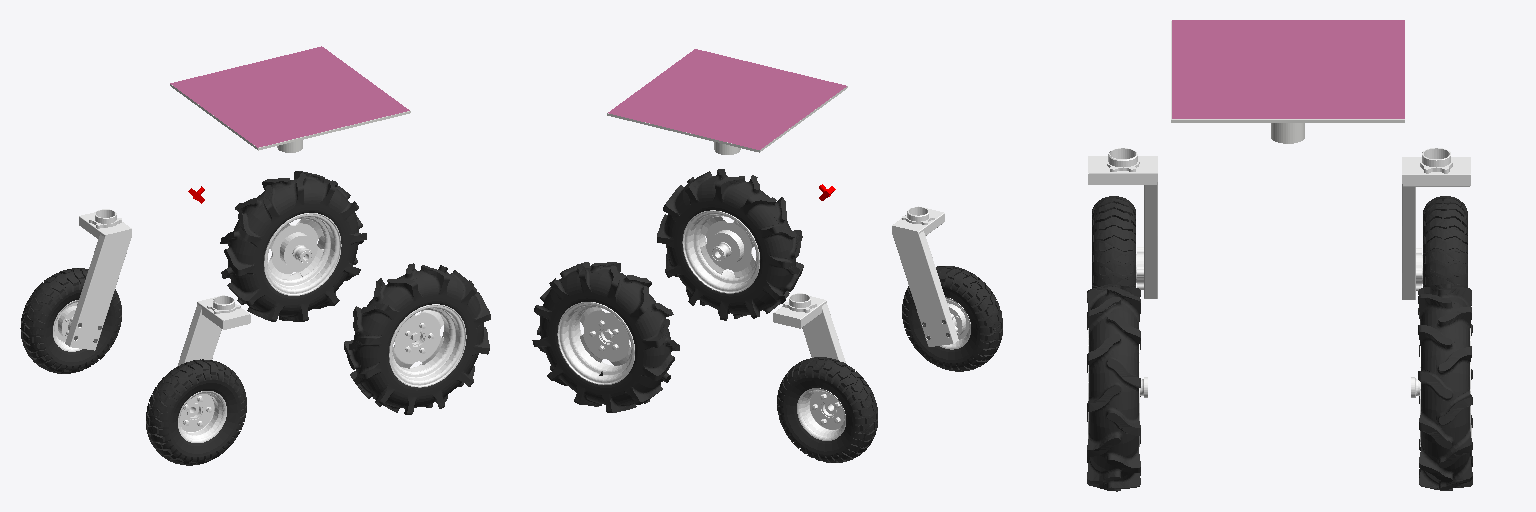
robot.urdf — sb2:
<?xml version="1.0"?>
<robot name="sb2">

#### LINKS #####################################################

<link name="base_link">
	<visual>
		<origin rpy="0 0 0" xyz="0 0 0"/>
		<geometry>
			<mesh filename = 
			"package://sb2_urdf/models/gantry_soy.dae" />
		</geometry>
	</visual>
	<collision>
		<origin rpy="0 0 0" xyz="0 0 0"/>
		<geometry>
			<mesh filename = 
			"package://sb2_urdf/models/collision_gantry_soy.dae" />
		</geometry>
	</collision>
	<inertial>
		<origin rpy="0 0 0" xyz="-0.33 0 0.9"/>
		<mass value="57.53"/>
		<inertia 
		ixx = "06.67" ixy = "-00.10" ixz = "0.03" 
		iyy = "04.86" iyz = "0.00" 
		izz = "11.26"/>
	</inertial>
</link>

<link name="drivetrain_L">
	<visual>
		<origin rpy="0 0 0" xyz="0 0 0"/>
		<geometry>
			<mesh filename = 
			"package://sb2_urdf/models/drivetrain_L.dae" />
		</geometry>
	</visual>
	<collision>
		<origin rpy="0 0 0" xyz="0 0 0"/>
		<geometry>
			<mesh filename = 
			"package://sb2_urdf/models/collision_drivetrain.dae" />
		</geometry>
	</collision>
	<inertial>
		<origin rpy="0 0 0" xyz="-0.21 -0.00 0.66"/>
		<mass value="57.53"/>
		<inertia 
		ixx = "01.71" ixy = "0.04" ixz = "-0.93" 
		iyy = "07.20" iyz = "-0.00" 
		izz = "06.01"/>
	</inertial>
</link>  

<link name="drivetrain_R">
	<visual>
		<origin rpy="0 0 0" xyz="0 0 0"/>
		<geometry>
			<mesh filename = 
			"package://sb2_urdf/models/drivetrain_R.dae" />
		</geometry>
	</visual>
	<collision>
		<origin rpy="0 0 0" xyz="0 0 0"/>
		<geometry>
			<mesh filename = 
			"package://sb2_urdf/models/collision_drivetrain.dae" />
		</geometry>
	</collision>
	<inertial>
		<origin rpy="0 0 0" xyz="-0.21 0 0.66"/>
		<mass value="55.71"/>
		<inertia 
		ixx = "01.71" ixy = "0.04" ixz = "-0.93" 
		iyy = "0.20" iyz = "-0.00" 
		izz = "06.01"/>
	</inertial>
</link>  

<link name="wheel_12_L">
	<visual>
		<origin rpy="0 0 0" xyz="0 0 0"/>
		<geometry>
			<mesh filename = 
			"package://sb2_urdf/models/wheel_12.dae" />
		</geometry>
	</visual>
	<collision>
		<origin rpy="0 0 0" xyz="0 0 0"/>
		<geometry>
			<mesh filename =
			"package://sb2_urdf/models/collision_wheel_12.dae"/>
		</geometry>
	</collision>
	<inertial>
		<origin rpy="0 0 0" xyz="0.00 0.01 0.00"/>
		<mass value=" 18.54"/>
		<inertia
		ixx = "0.28" ixy = "-0.00" ixz = "0.00"
		iyy = "0.49" iyz = "-0.00" 
		izz = "0.28"/>
	</inertial>
</link>

<link name="wheel_12_R">
	<visual>
		<origin rpy="0 0 0" xyz="0 0 0"/>
		<geometry>
			<mesh filename = 
			"package://sb2_urdf/models/wheel_12.dae" />
		</geometry>
	</visual>
	<collision>
		<origin rpy="0 0 0" xyz="0 0 0"/>
		<geometry>
			<mesh filename =
			"package://sb2_urdf/models/collision_wheel_12.dae"/>
		</geometry>
	</collision>
	<inertial>
		<origin rpy="0 0 0" xyz="0.00 0.01 0.00"/>
		<mass value=" 18.54"/>
		<inertia 
		ixx = "0.28" ixy = "-0.00" ixz = "0.00" 
		iyy = "0.49" iyz = "-0.00" 
		izz = "0.28"/>
	</inertial>
</link>

<link name="castor_L">
	<visual>
		<origin rpy="0 0 0" xyz="0 0 0"/>
		<geometry>
			<mesh filename = 
			"package://sb2_urdf/models/castor_L.dae" />
		</geometry>
	</visual>
	<collision>
		<origin rpy="0 0 0" xyz="0 0 0"/>
		<geometry>
			<mesh filename = 
			"package://sb2_urdf/models/collision_castor.dae" />
		</geometry>
	</collision>
	<inertial>
		<origin rpy="0 0 0" xyz="-0.06 -0.05 0.42"/>
		<mass value="06.29"/>
		<inertia 
		ixx = "0.18" ixy = "0.01" ixz = "0.06" 
		iyy = "0.19" iyz = "0.02" 
		izz = "0.05"/>
	</inertial>
</link>

<link name="castor_R">
	<visual>
		<origin rpy="0 0 0" xyz="0 0 0"/>
		<geometry>
			<mesh filename = 
			"package://sb2_urdf/models/castor_R.dae" />
		</geometry>
	</visual>
	<collision>
		<origin rpy="0 0 0" xyz="0 0 0"/>
		<geometry>
			<mesh filename = 
			"package://sb2_urdf/models/collision_castor.dae" />
		</geometry>
	</collision>
	<inertial>
		<origin rpy="0 0 0" xyz=" -0.06 -0.05 0.42"/>
		<mass value="06.29"/>
		<inertia 
		ixx = "0.18" ixy = "0.01" ixz = "0.06" 
		iyy = "0.19" iyz = "0.02" 
		izz = "0.05"/>
	</inertial>
</link>

<link name="wheel_8_L">
	<visual>
		<origin rpy="0 0 0" xyz="0 -0.026 0"/>
		<geometry>
			<mesh filename = 
			"package://sb2_urdf/models/wheel_8.dae" />
		</geometry>
	</visual>
	<collision>
		<origin rpy="0 0 0" xyz="0 -0.026 0"/>
		<geometry>
			<mesh filename = 
			"package://sb2_urdf/models/collision_wheel_8.dae" />
		</geometry>
	</collision>
	<inertial>
		<origin rpy="0 0 0" xyz="-0.00  -0.02 0.00"/>
		<mass value="07.77"/>
		<inertia 
		ixx = "0.05" ixy = "-0.0" ixz = "0.00" 
		iyy = "0.09" iyz = "0.00" 
		izz = "0.05"/>
	</inertial>
</link>

<link name="wheel_8_R">
	<visual>
		<origin rpy="0 0 0" xyz="0 -0.026 0"/>
		<geometry>
			<mesh filename = 
			"package://sb2_urdf/models/wheel_8.dae" />
		</geometry>
	</visual>
	<collision>
		<origin rpy="0 0 0" xyz="0 -0.026 0"/>
		<geometry>
			<mesh filename = 
			"package://sb2_urdf/models/collision_wheel_8.dae" />
		</geometry>
	</collision>
	<inertial>
		<origin rpy="0 0 0" xyz="-0.00  -0.02 0.00"/>
		<mass value="07.77"/>
		<inertia 
		ixx = "0.05" ixy = "-0.00" ixz = "0.00" 
		iyy = "0.09" iyz = "0.00" 
		izz = "0.05"/>
	</inertial>
</link>
<link name="center_camera">

</link>

<link name="left_camera">

</link>

<link name="right_camera">

</link>

<link name="rear_camera">
	<visual>
		<origin rpy="0 0 0" xyz="0 0 0"/>
		<geometry>
			<box size="0.02 0.05 0.05"/>
		</geometry>
		<material name="red">
			<color rgba="1 0 0 1"/>
		</material>
	</visual>
	<visual>
		<origin rpy="0 1.5707 0" xyz="0.01 0 0"/>
		<geometry>
			<cylinder length="0.01" radius="0.00625"/>
		</geometry>
		<material name="red">
			<color rgba="1 0 0 1"/>
		</material>
	</visual>
	<visual>
		<origin rpy="0 1.5707 0" xyz="-0.025 0 0"/>
		<geometry>
			<cylinder length="0.03" radius="0.01"/>
		</geometry>
		<material name="red">
			<color rgba="1 0 0 1"/>
		</material>
	</visual>
	<collision>
		<origin rpy="0 0 0" xyz="0 0 0"/>
		<geometry>
			<box size="0.02 0.05 0.05"/>
		</geometry>
	</collision>
	<collision>
		<origin rpy="0 1.5707 0" xyz="0.01 0 0"/>
		<geometry>
			<cylinder length="0.01" radius="0.00625"/>
		</geometry>
		<material name="red">
			<color rgba="1 0 0 1"/>
		</material>
	</collision>
	<collision>
		<origin rpy="0 1.5707 0" xyz="-0.025 0 0"/>
		<geometry>
			<cylinder length="0.03" radius="0.01"/>
		</geometry>
		<material name="red">
			<color rgba="1 0 0 1"/>
		</material>
	</collision>
</link>


<link name="landing_area">
	<visual>
		<origin rpy="-1.5707 0 0" xyz="0 0 0"/>
		<geometry>
			<mesh filename =
			"package://sb2_urdf/models/landing_area.dae" />
		</geometry>
	</visual>
	
	<collision>
		<origin rpy="-1.5707 0 0" xyz="0 0 0"/>
		<geometry>
			<mesh filename =
			"package://sb2_urdf/models/landing_area.dae" />
		</geometry>
	</collision>
</link> 

<link name="pad">
	<visual>
		<origin rpy="0 0 0" xyz="0 0 0"/>
		<geometry>
			<box size="0.67 0.67 1e-5"/>
		</geometry>
	</visual>
</link>


<gazebo reference="pad">
	<visual name='visual'>
		<geometry>
			<box>
				<size>0.67 0.67 1e-5</size>
			</box>
		</geometry>
		<material>
			<script>
				<uri>model://aruco_visual_marker_7/materials/scripts</uri>
				<uri>model://aruco_visual_marker_7/materials/textures</uri>
				<name>ArucoVisualMarker7/Marker</name>
			</script>
			<ambient>1 1 1 1</ambient>
			<diffuse>1 1 1 1</diffuse>
			<specular>0 0 0 1</specular>
			<emissive>1 1 1 0</emissive>
				<shader type='vertex'>
				<normal_map>__default__</normal_map>
			</shader>
		</material>
		<pose frame=''>0 0 0 0 0 0</pose>
		<cast_shadows>0</cast_shadows>
		<transparency>0</transparency>
	</visual>
</gazebo>

#### JOINTS ####################################################

<!-- Base Link -->
<joint name="drivetrain_L_joint" type="fixed">
	<parent link="base_link"/>
	<child link="drivetrain_L"/>
	<origin rpy="0  0  0 " xyz="0 0.45 0"/>
</joint>

<joint name="drivetrain_R_joint" type="fixed">
	<parent link="base_link"/>
	<child link="drivetrain_R"/>
	<origin rpy="0  0  0 " xyz="0 -0.45 0"/>
</joint>

<joint name="landing_area_joint" type="fixed">
	<parent link="base_link"/>
	<child link="landing_area"/>
	<origin rpy="0  0  0 " xyz="-0.3 0 0.75"/>
</joint>

<joint name="base_joint" type="fixed">
	<parent link="landing_area"/>
	<child link="pad"/>
	<origin rpy="0  0  0 " xyz="0.025 0.025 0.421"/>
</joint>


<!-- Front Wheels -->
<joint name="L_wheel" type="continuous">
	<parent link="drivetrain_L"/>
	<child link="wheel_12_L"/>
	<axis xyz="0 -1 0"/>
	<origin rpy="3.1459 0 0 " xyz="0 0.026 0.2928"/>
	<dynamics damping="0.13" friction="0.00006"/>
</joint>

<joint name="R_wheel" type="continuous">
	<parent link="drivetrain_R"/>
	<child link="wheel_12_R"/>
	<axis xyz="0 1 0"/>
	<origin rpy="0 0 0 " xyz="0 -0.026 0.2928"/>
	<dynamics damping="0.13" friction="0.00006"/>
</joint>

<!-- Castor Arm -->
<joint name="L_castor" type="continuous">
	<parent link="drivetrain_L"/>
	<child link="castor_L"/>
	<axis xyz="0 0 1"/>
	<origin rpy="0 0 0 " xyz="-0.84 0 0"/>
	<dynamics damping="0.13" friction="0.00006"/>
</joint>

<joint name="R_castor" type="continuous">
	<parent link="drivetrain_R"/>
	<child link="castor_R"/>
	<axis xyz="0 0 1"/>
	<origin rpy="0 0 0 " xyz="-0.84 0 0"/>
	<dynamics damping="0.13" friction="0.00006"/>
</joint>

<!-- Castor Wheels -->
<joint name="L_castor_wheel" type="continuous">
	<parent link="castor_L"/>
	<child link="wheel_8_L"/>
	<axis xyz="0 -1 0"/>
	<origin rpy="3.1459 0 0 " xyz="-0.136 0 0.2115"/>
	<dynamics damping="0.13" friction="0.00006"/>
</joint>

<joint name="R_castor_wheel" type="continuous">
	<parent link="castor_R"/>
	<child link="wheel_8_R"/>
	<axis xyz="0 1 0"/>
	<origin rpy="0 0 0 " xyz="-0.136 0 0.2115"/>
	<dynamics damping="0.13" friction="0.00006"/>
</joint>	

<!-- Cameras -->
<joint name="center_camera" type="fixed">
	<parent link="base_link"/>
	<child link="center_camera"/>
	<axis xyz="0 1 0"/>
	<origin rpy="0 0.52 0" xyz="0.16 0 0.865"/>
	<!--origin rpy="0 1.5707 0" xyz="0.16 0 0.865"/-->
</joint>

<joint name="rear_camera" type="fixed">
	<parent link="base_link"/>
	<child link="rear_camera"/>
	<axis xyz="0 1 0"/>
	<origin rpy="0 0.707 3.1415" xyz="-0.7 0 0.865"/>
</joint>

<joint name="left_camera" type="fixed">
	<parent link="base_link"/>
	<child link="left_camera"/>
	<axis xyz="0 1 0"/>
	<origin rpy="0 0.2618 0" xyz="0.5 0.485 0.22"/>
</joint>g

<joint name="right_camera" type="fixed">
	<parent link="base_link"/>
	<child link="right_camera"/>
	<axis xyz="0 1 0"/>
	<origin rpy="0 0.2618 0" xyz="0.5 -0.475 0.22"/>
</joint>


<!-- Differential Driver Plugin -->
<gazebo>	
  <plugin name="differential_drive_controller" filename="libgazebo_ros_diff_drive.so">
    <alwaysOn>true</alwaysOn>
    <legacyMode>false</legacyMode>
    <updateRate>50</updateRate>
    <leftJoint>L_wheel</leftJoint>
    <rightJoint>R_wheel</rightJoint>
    <wheelSeparation>0.952</wheelSeparation>
    <!--wheelDiameter>0.2928</wheelDiameter-->
    <wheelDiameter>0.5856</wheelDiameter>
    <torque>50</torque>
    <commandTopic>/soybot/cmd_vel</commandTopic>
    <odometryTopic>/odom</odometryTopic>
    <odometryFrame>/odom</odometryFrame>
    <robotBaseFrame>base_link</robotBaseFrame>
    <wheelTorque>90</wheelTorque>
  </plugin>  
</gazebo>

<!-- Cetral Camera Plugin -->
<gazebo reference="center_camera">
<sensor name="center_camera" type="camera">
  <update_rate>30.0</update_rate>
  <camera name="center_camera">
    <!--pose>0.0 0.21 0.0 0.0 -0.8 -1.570796327 </pose-->
    <pose>0 0 0 0 0 0</pose>
    <horizontal_fov>1.0471</horizontal_fov>
    <image>
      <width>640</width>
      <height>480</height>
      <format>R8G8B8</format>
    </image>
    <clip>
      <near>0.02</near>
      <far>300</far>
    </clip>
    <noise>
      <type>gaussian</type>
      <mean>0.0</mean>
      <stddev>0.007</stddev>
    </noise>
  </camera>
  <plugin filename="libgazebo_ros_camera.so" name="camera_controller">
    <alwaysOn>true</alwaysOn>
    <updateRate>0.0</updateRate>
    <cameraName>center_camera</cameraName>
    <imageTopicName>image_raw</imageTopicName>
    <cameraInfoTopicName>camera_info</cameraInfoTopicName>
    <frameName>center_camera</frameName>
    <hackBaseline>0.07</hackBaseline>
    <distortionK1>0.0</distortionK1>
    <distortionK2>0.0</distortionK2>
    <distortionK3>0.0</distortionK3>
    <distortionT1>0.0</distortionT1>
    <distortionT2>0.0</distortionT2>
    <robotNamespace>/soybot/cameras</robotNamespace>
  </plugin>
</sensor>
</gazebo>

<!-- Rear Camera Plugin -->
<gazebo reference="rear_camera">
<sensor name="rear_camera" type="camera">
  <update_rate>30.0</update_rate>
  <camera name="rear_camera">
    <!--pose>0.0 0.21 0.0 0.0 -0.8 -1.570796327 </pose-->
    <pose>0 0 0 0 0 0</pose>
    <horizontal_fov>1.0471</horizontal_fov>
    <image>
      <width>640</width>
      <height>480</height>
      <format>R8G8B8</format>
    </image>
    <clip>
      <near>0.02</near>
      <far>300</far>
    </clip>
    <noise>
      <type>gaussian</type>
      <mean>0.0</mean>
      <stddev>0.007</stddev>
    </noise>
  </camera>
  <plugin filename="libgazebo_ros_camera.so" name="camera_controller">
    <alwaysOn>true</alwaysOn>
    <updateRate>0.0</updateRate>
    <cameraName>rear_camera</cameraName>
    <imageTopicName>image_raw</imageTopicName>
    <cameraInfoTopicName>camera_info</cameraInfoTopicName>
    <frameName>rear_camera</frameName>
    <hackBaseline>0.07</hackBaseline>
    <distortionK1>0.0</distortionK1>
    <distortionK2>0.0</distortionK2>
    <distortionK3>0.0</distortionK3>
    <distortionT1>0.0</distortionT1>
    <distortionT2>0.0</distortionT2>
    <robotNamespace>/soybot/cameras</robotNamespace>
  </plugin>
</sensor>
</gazebo>

<!-- Left Camera Plugin -->
<gazebo reference="left_camera">
<sensor name="left_camera" type="camera">
  <update_rate>30.0</update_rate>
  <camera name="left_camera">
    <pose>0 0 0 0 0 0</pose>
    <horizontal_fov>1.0471</horizontal_fov>
    <image>
      <width>640</width>
      <height>480</height>
      <format>R8G8B8</format>
    </image>
    <clip>
      <near>0.02</near>
      <far>300</far>
    </clip>
    <noise>
      <type>gaussian</type>
      <mean>0.0</mean>
      <stddev>0.007</stddev>
    </noise>
  </camera>
  <plugin filename="libgazebo_ros_camera.so" name="camera_controller">
    <alwaysOn>true</alwaysOn>
    <updateRate>0.0</updateRate>
    <cameraName>left_camera</cameraName>
    <imageTopicName>image_raw</imageTopicName>
    <cameraInfoTopicName>camera_info</cameraInfoTopicName>
    <frameName>left_camera</frameName>
    <hackBaseline>0.07</hackBaseline>
    <distortionK1>0.0</distortionK1>
    <distortionK2>0.0</distortionK2>
    <distortionK3>0.0</distortionK3>
    <distortionT1>0.0</distortionT1>
    <distortionT2>0.0</distortionT2>
    <robotNamespace>/soybot/cameras</robotNamespace>
  </plugin>
</sensor>
</gazebo>

<!-- Right Camera Plugin -->
<gazebo reference="right_camera">
<sensor name="right_camera" type="camera">
  <update_rate>30.0</update_rate>
  <camera name="right_camera">
    <pose>0 0 0 0 0 0</pose>
    <horizontal_fov>1.0471</horizontal_fov>
    <image>
      <width>640</width>
      <height>480</height>
      <format>R8G8B8</format>
    </image>
    <clip>
      <near>0.02</near>
      <far>300</far>
    </clip>
    <noise>
      <type>gaussian</type>
      <mean>0.0</mean>
      <stddev>0.007</stddev>
    </noise>
  </camera>
  <plugin filename="libgazebo_ros_camera.so" name="camera_controller">
    <alwaysOn>true</alwaysOn>
    <updateRate>0.0</updateRate>
    <cameraName>right_camera</cameraName>
    <imageTopicName>image_raw</imageTopicName>
    <cameraInfoTopicName>camera_info</cameraInfoTopicName>
    <frameName>right_camera</frameName>
    <hackBaseline>0.07</hackBaseline>
    <distortionK1>0.0</distortionK1>
    <distortionK2>0.0</distortionK2>
    <distortionK3>0.0</distortionK3>
    <distortionT1>0.0</distortionT1>
    <distortionT2>0.0</distortionT2>
    <robotNamespace>/soybot/cameras</robotNamespace>
  </plugin>
</sensor>
</gazebo>


</robot>

--- Facts derived from the render (not from the file) ---
The picture shows the robot from 3 angles, left to right: view 1: azimuth 30°, elevation 25°; view 2: azimuth 150°, elevation 25°; view 3: azimuth 270°, elevation 25°; orthographic projection.
Model sb2 with 15 links and 14 joints (6 continuous, 8 fixed), rooted at base_link, posed all joints at 0.
Links seen in each view (by area): view 1: wheel_12_R, wheel_12_L, pad, wheel_8_R, wheel_8_L, castor_L, castor_R, landing_area; view 2: wheel_12_L, wheel_12_R, pad, wheel_8_L, wheel_8_R, castor_R, castor_L, landing_area; view 3: pad, wheel_12_L, wheel_12_R, castor_L, castor_R, wheel_8_L, wheel_8_R, landing_area.
Link boxes in pixels (box(x1,y1,x2,y2)): wheel_12_R: box(344, 263, 490, 414); wheel_12_L: box(220, 171, 366, 321); pad: box(170, 46, 409, 147); wheel_8_R: box(146, 359, 246, 465); wheel_8_L: box(20, 268, 121, 373); castor_L: box(65, 209, 131, 350); castor_R: box(177, 295, 250, 366); landing_area: box(170, 84, 410, 152); wheel_12_L: box(532, 262, 679, 412); wheel_12_R: box(657, 169, 803, 320); pad: box(608, 49, 846, 149); wheel_8_L: box(777, 357, 877, 462); wheel_8_R: box(902, 266, 1002, 371); castor_R: box(892, 206, 958, 346); castor_L: box(773, 293, 845, 362); landing_area: box(607, 86, 847, 154); pad: box(1172, 20, 1404, 118); wheel_12_L: box(1411, 284, 1472, 490); wheel_12_R: box(1087, 284, 1147, 491); castor_L: box(1402, 148, 1470, 299); castor_R: box(1088, 148, 1157, 298); wheel_8_L: box(1423, 196, 1467, 287); wheel_8_R: box(1092, 196, 1135, 288); landing_area: box(1171, 21, 1404, 143).
Size in the robot's own frame: 1.49 by 1.11 by 1.18 metres.
7 mesh visuals loaded from 8 distinct referenced files (5 Collada DAE); not drawn: 3 (reference not matched to a file when rendering).